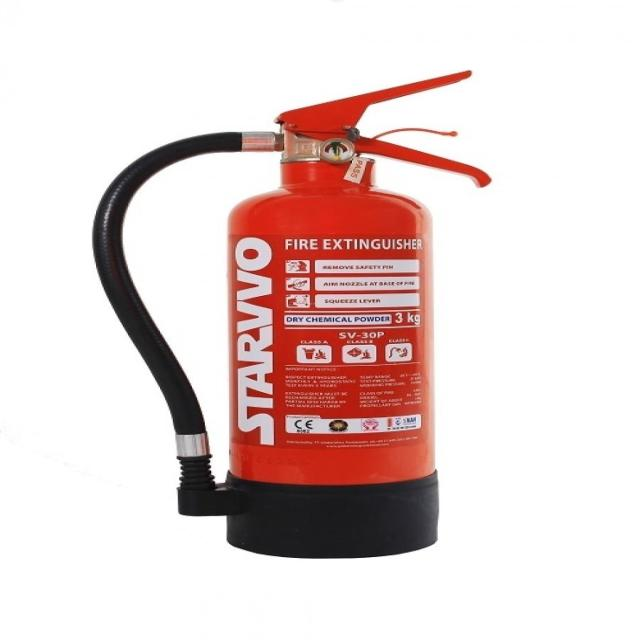fire_extinguisher: (80, 63, 498, 562)
